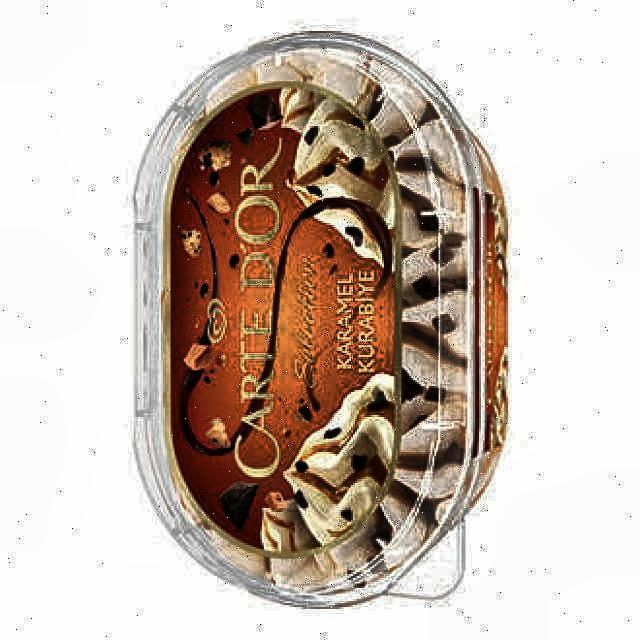plastic: (135, 32, 508, 607)
